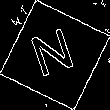N_S: (28, 25, 82, 85)
